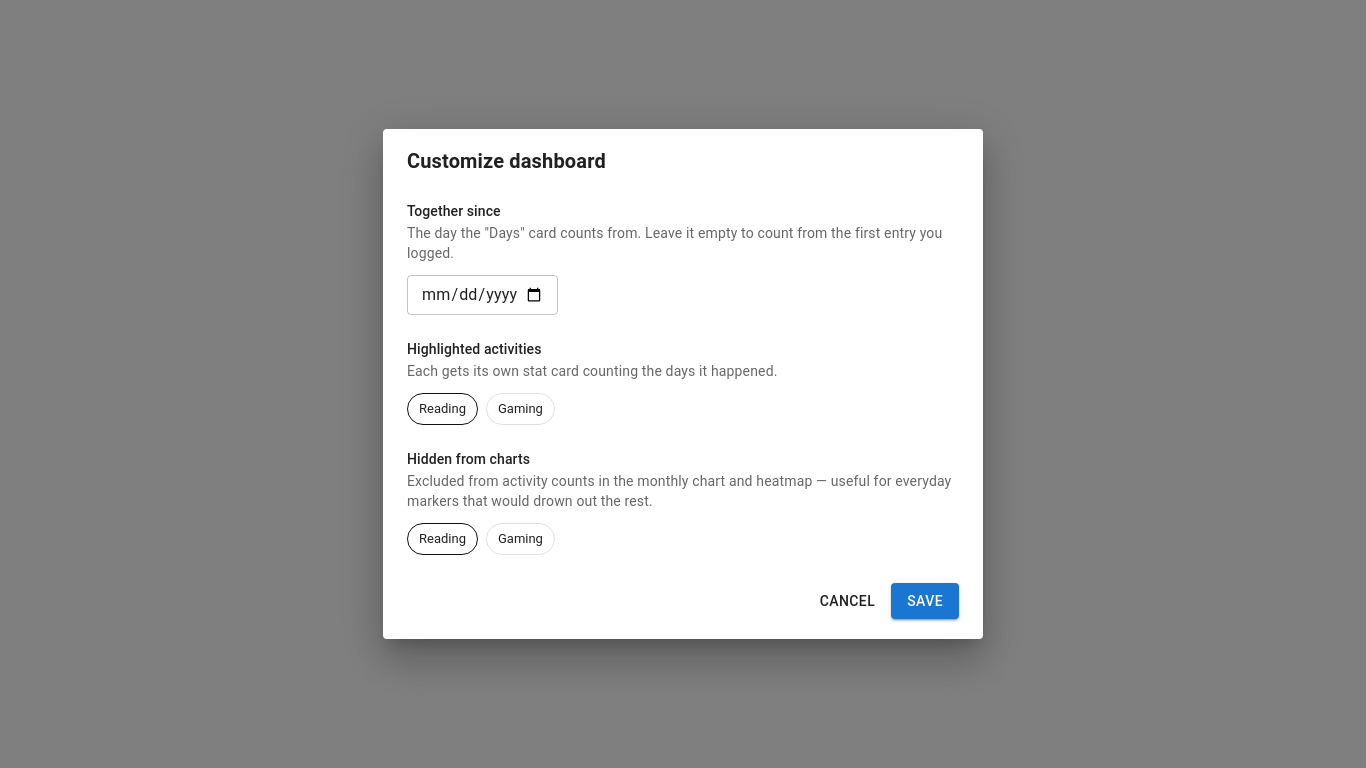
it: toggles a highlight chip on and off
The image size is (1366, 768).
Click the 1st button "Reading". click: (442, 409)
box: [407,393,478,425]
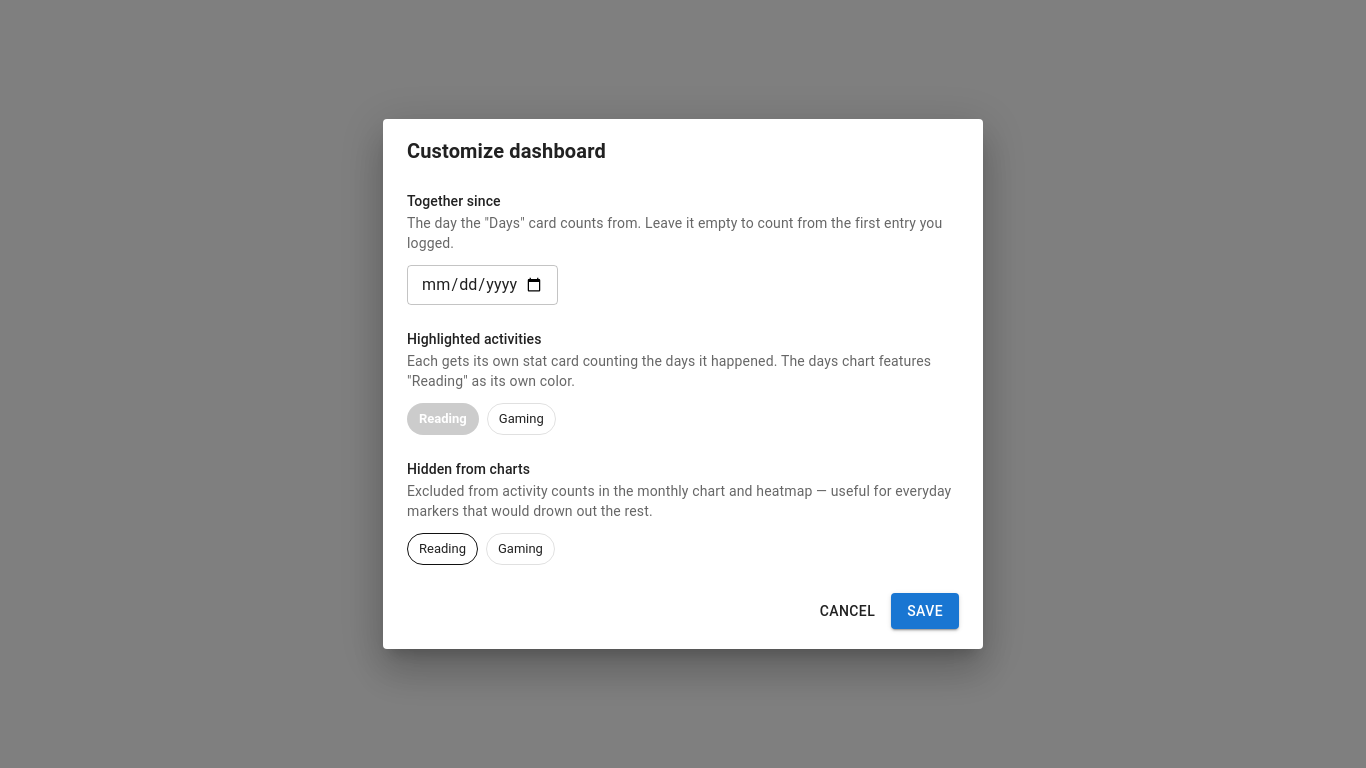
expect the text "features \"Reading\" as its own color" is shown: met, box [407,353,931,389]
Click the 1st button "Reading". click: (443, 419)
box: [407,403,479,435]
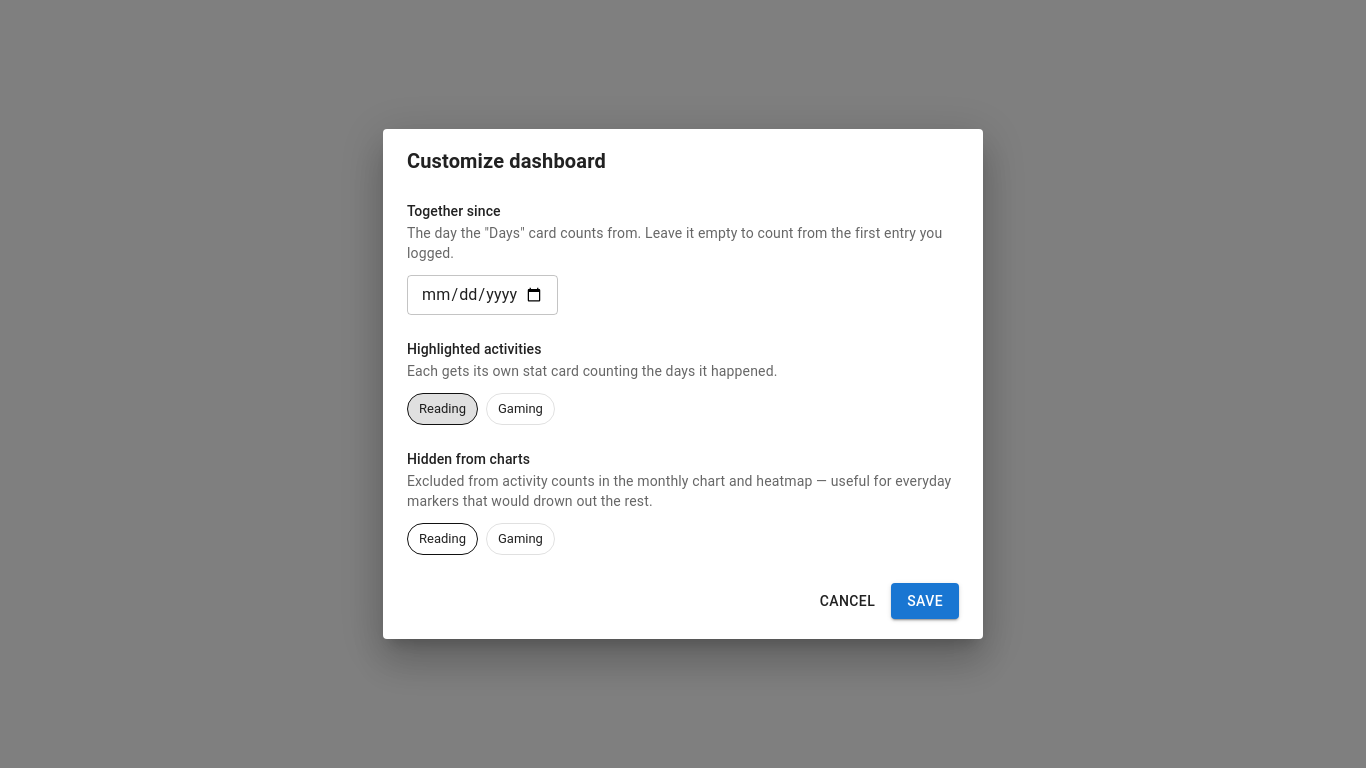
expect the text "features \"Reading\" as its own color" is gone: met
